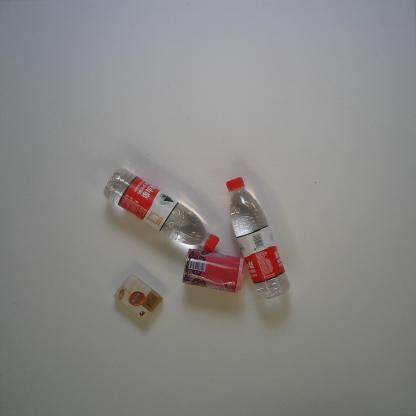Canned Food: (182, 247, 246, 294)
Drink: (103, 167, 221, 253), (225, 177, 291, 301)
Tissue: (112, 272, 164, 321)
